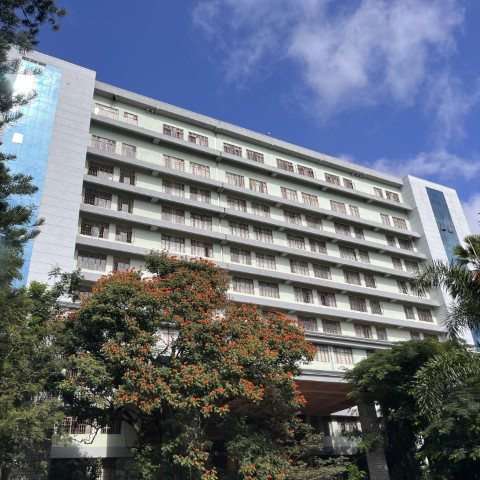Central Block: (11, 34, 480, 358)
